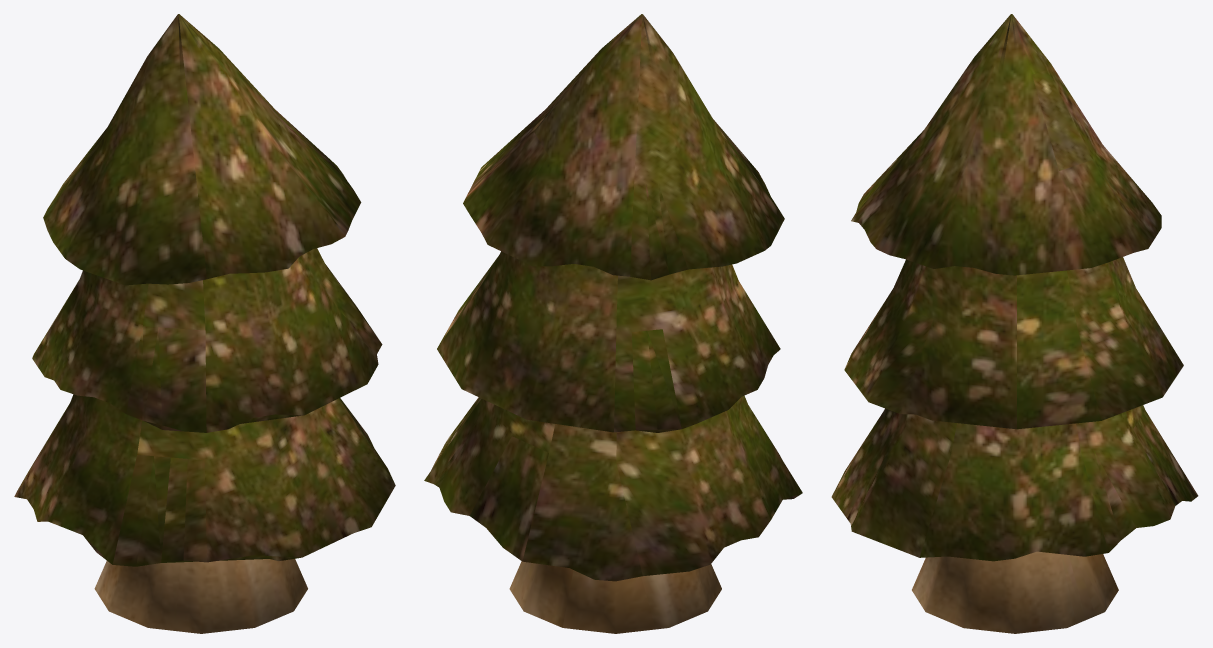
Rendered from pinetree.glb.
The picture shows the model from 3 angles, left to right: view 1: azimuth 30°, elevation 25°; view 2: azimuth 150°, elevation 25°; view 3: azimuth 270°, elevation 25°; orthographic projection. The views are drawn at different scales.
Visible parts, largest first — view 1: pinetree_joined.002; view 2: pinetree_joined.002; view 3: pinetree_joined.002.
Part boxes in pixels (x1=…): pinetree_joined.002: x1=14, y1=14, x2=395, y2=633; pinetree_joined.002: x1=424, y1=14, x2=802, y2=633; pinetree_joined.002: x1=831, y1=14, x2=1198, y2=633.
Bounding box in the file's own units: 3.47 × 6.01 × 3.54.
Materials: 1 (1 with a texture image).
